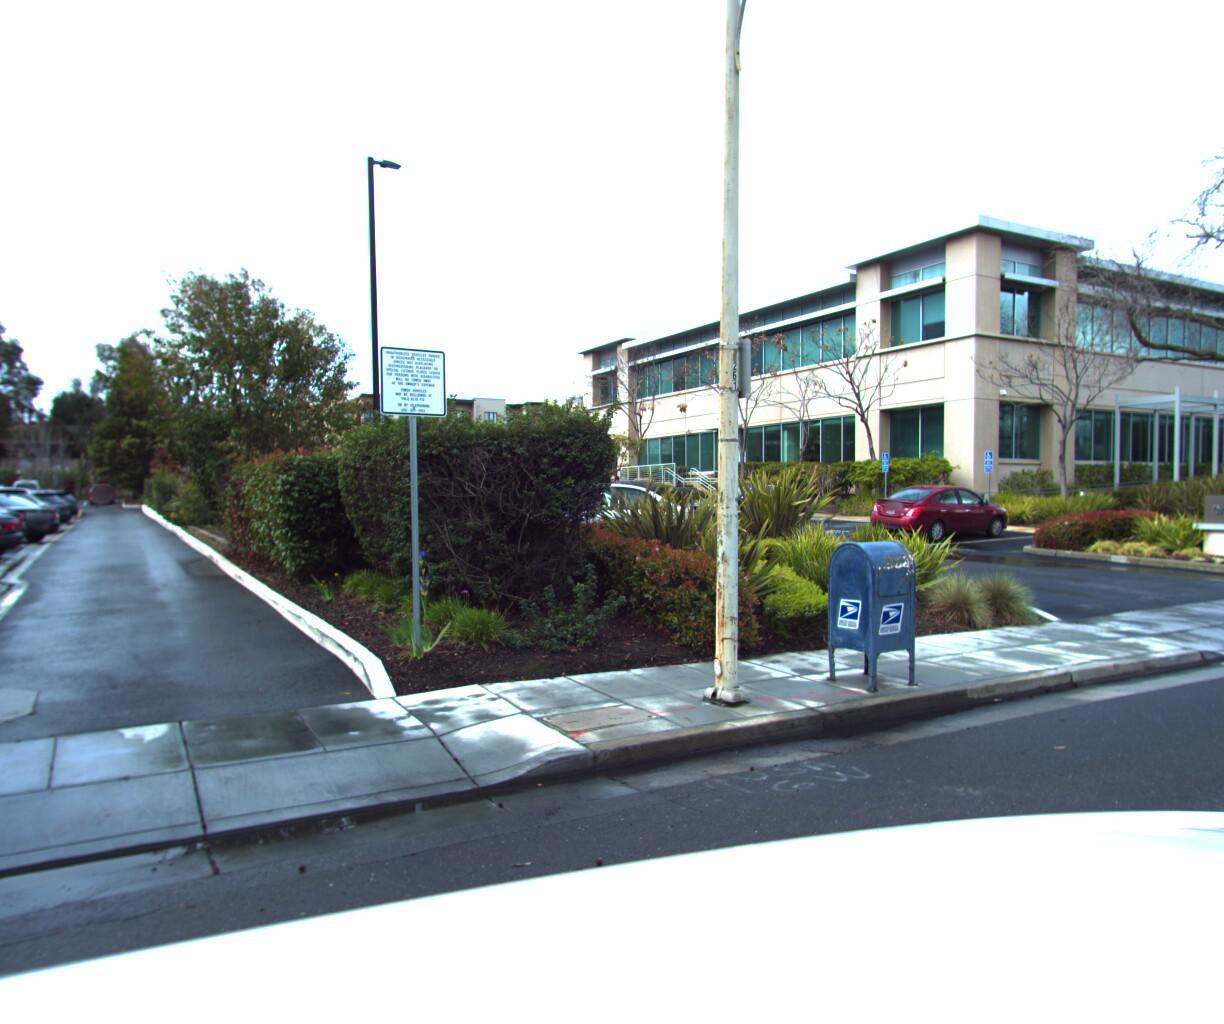car: (478, 476, 709, 563)
